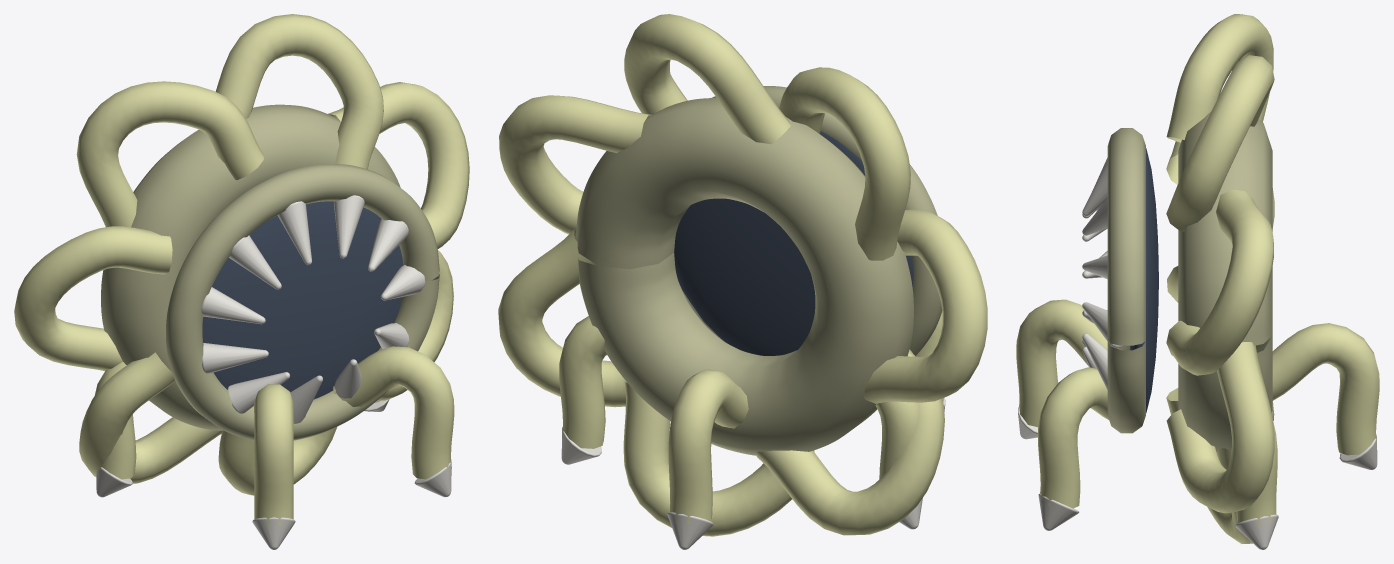
File: bio_spiral_maw_03_near.glb
The picture shows the model from 3 angles, left to right: view 1: azimuth 30°, elevation 25°; view 2: azimuth 150°, elevation 25°; view 3: azimuth 270°, elevation 25°; orthographic projection. The views are drawn at different scales.
Visible parts, largest first — view 1: Recessed mouth cavity, Rear muscular torus, Raised oral lip, Coiling oral limb.002, Inward tooth, Coiling oral limb.003, Coiling oral limb.001, Coiling oral limb.004, Coiling oral limb, Crooked support.004, Crooked support.003, Coiling oral limb.005 (+5 smaller); view 2: Rear muscular torus, Recessed mouth cavity, Coiling oral limb.003, Coiling oral limb.002, Coiling oral limb.001, Coiling oral limb.004, Coiling oral limb, Coiling oral limb.005, Coiling oral limb.006, Crooked support.001, Crooked support, Raised oral lip (+3 smaller); view 3: Rear muscular torus, Raised oral lip, Coiling oral limb.006, Coiling oral limb, Crooked support.001, Coiling oral limb.001, Coiling oral limb.002, Crooked support.004, Crooked support.003, Inward tooth, Recessed mouth cavity, Crooked support (+5 smaller).
Boxes of the visible parts, box(x1,y1,x2,y2) form: Recessed mouth cavity: box(202, 201, 403, 399); Rear muscular torus: box(101, 104, 400, 430); Raised oral lip: box(166, 164, 439, 440); Coiling oral limb.002: box(76, 81, 263, 227); Inward tooth: box(201, 195, 425, 423); Coiling oral limb.003: box(14, 226, 172, 370); Coiling oral limb.001: box(215, 14, 383, 169); Coiling oral limb.004: box(79, 352, 221, 483); Coiling oral limb: box(328, 82, 469, 248); Crooked support.004: box(333, 346, 454, 479); Crooked support.003: box(254, 384, 293, 524); Coiling oral limb.005: box(218, 427, 336, 495); Rear muscular torus: box(575, 98, 913, 455); Recessed mouth cavity: box(674, 131, 913, 355); Coiling oral limb.003: box(864, 209, 987, 403); Coiling oral limb.002: box(779, 67, 910, 260); Coiling oral limb.001: box(624, 14, 790, 144); Coiling oral limb.004: box(756, 349, 944, 535); Coiling oral limb: box(499, 95, 651, 234); Coiling oral limb.005: box(623, 380, 814, 536); Coiling oral limb.006: box(498, 228, 625, 407); Crooked support.001: box(668, 369, 748, 523); Crooked support: box(559, 316, 606, 448); Raised oral lip: box(683, 86, 942, 355); Rear muscular torus: box(1178, 111, 1272, 452); Raised oral lip: box(1107, 128, 1145, 433); Coiling oral limb.006: box(1166, 342, 1274, 513); Coiling oral limb: box(1166, 189, 1273, 375); Crooked support.001: box(1272, 323, 1379, 455); Coiling oral limb.001: box(1166, 55, 1274, 231); Coiling oral limb.002: box(1166, 14, 1273, 142); Crooked support.004: box(1038, 367, 1109, 508); Crooked support.003: box(1016, 299, 1107, 427); Inward tooth: box(1082, 157, 1124, 389); Recessed mouth cavity: box(1130, 148, 1158, 412); Crooked support: box(1236, 420, 1277, 525).
Size of the model in its own units: 2.44 by 2.47 by 1.69.
